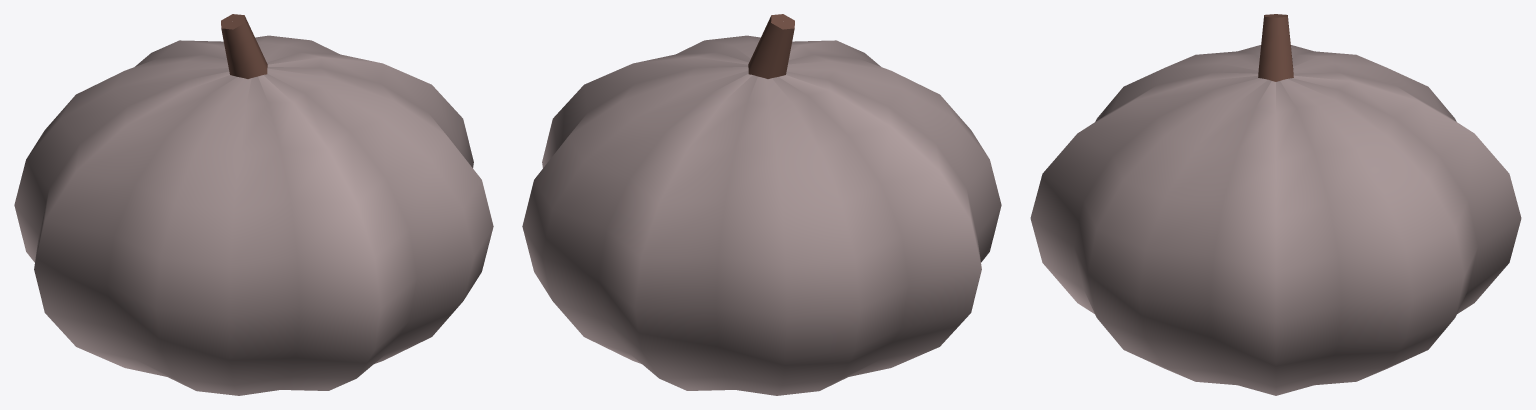
Rendered from fruit-pumpkin-chilled.gltf.
The picture shows the model from 3 angles, left to right: view 1: azimuth 30°, elevation 25°; view 2: azimuth 150°, elevation 25°; view 3: azimuth 270°, elevation 25°; orthographic projection. The views are drawn at different scales.
Bounding box in the file's own units: 1.08 × 0.826 × 1.08.
